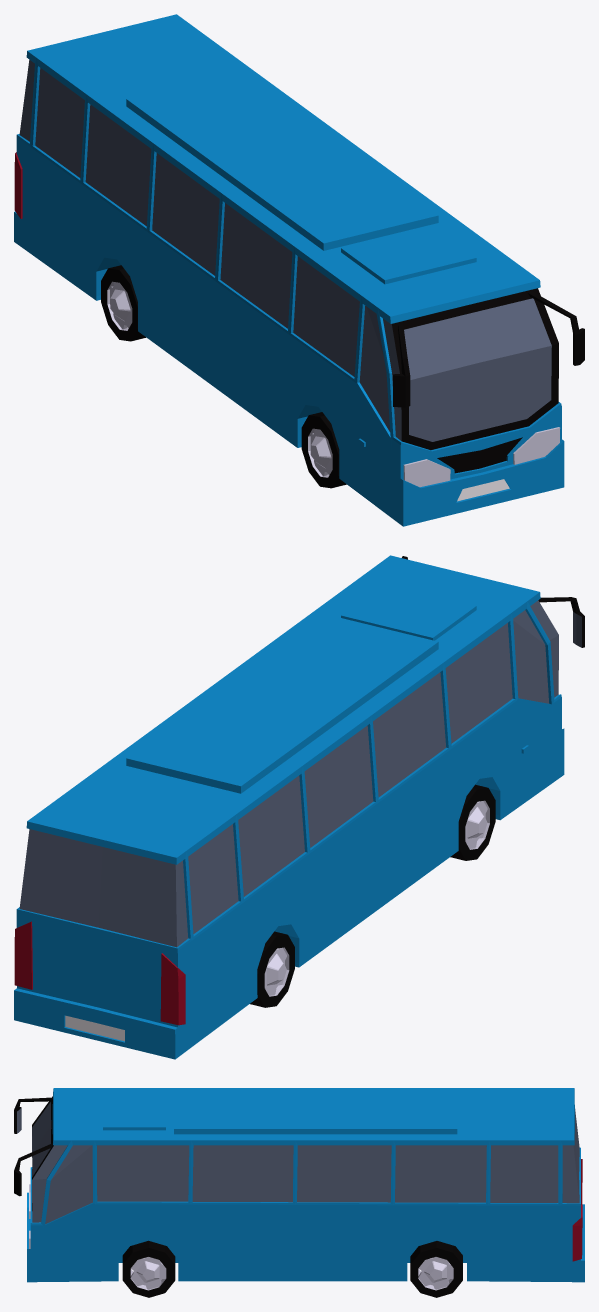
The model's file is bus.glb.
3 renders of one model, top to bottom at view 1: azimuth 30°, elevation 25°; view 2: azimuth 150°, elevation 25°; view 3: azimuth 270°, elevation 25°, orthographic. The views are drawn at different scales.
Parts seen in each view (by area): view 1: body; view 2: body; view 3: body.
Part boxes in pixels (x1,y1,x2,y2): body: (14, 14, 584, 526); body: (14, 555, 584, 1059); body: (14, 1088, 584, 1297).
Size of the model in its own units: 3.81 by 4.27 by 13.7.
